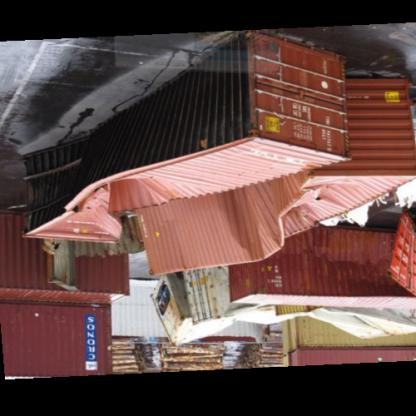Damage: (134, 170, 322, 282), (17, 138, 127, 250)
